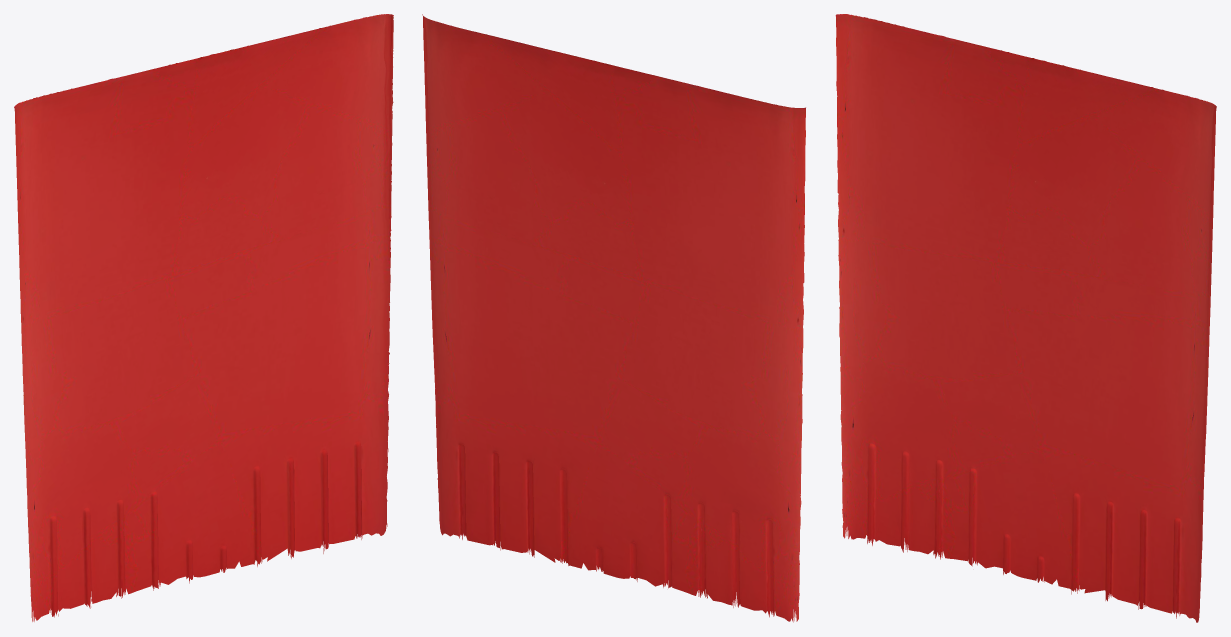
Rendered from box-back.glb.
The picture shows the model from 3 angles, left to right: view 1: azimuth 30°, elevation 25°; view 2: azimuth 150°, elevation 25°; view 3: azimuth 330°, elevation 25°; orthographic projection.
Parts seen in each view (by area): view 1: box-back; view 2: box-back; view 3: box-back.
Boxes of the visible parts, x1,y1,x2,y2 form: box-back: [14, 14, 393, 621]; box-back: [422, 14, 805, 622]; box-back: [835, 14, 1216, 622].
Bounding box in the file's own units: 0.587 × 0.7674 × 0.0277.
Materials: 1 (1 with a texture image).
